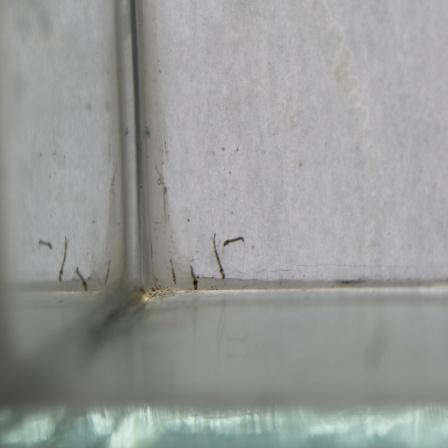Jentik-Nyamuk: (209, 231, 247, 281), (185, 262, 203, 293)
